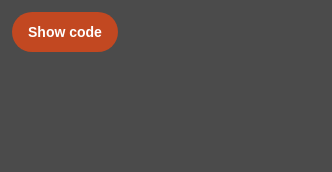
it: RedeemButton › shows the code after a successful redeem
The image size is (332, 172).
Click the button "Show code" at (65, 32), box [12, 12, 118, 52]
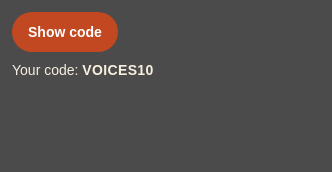
Result: the text "VOICES10" is shown at [82, 62, 154, 78]
